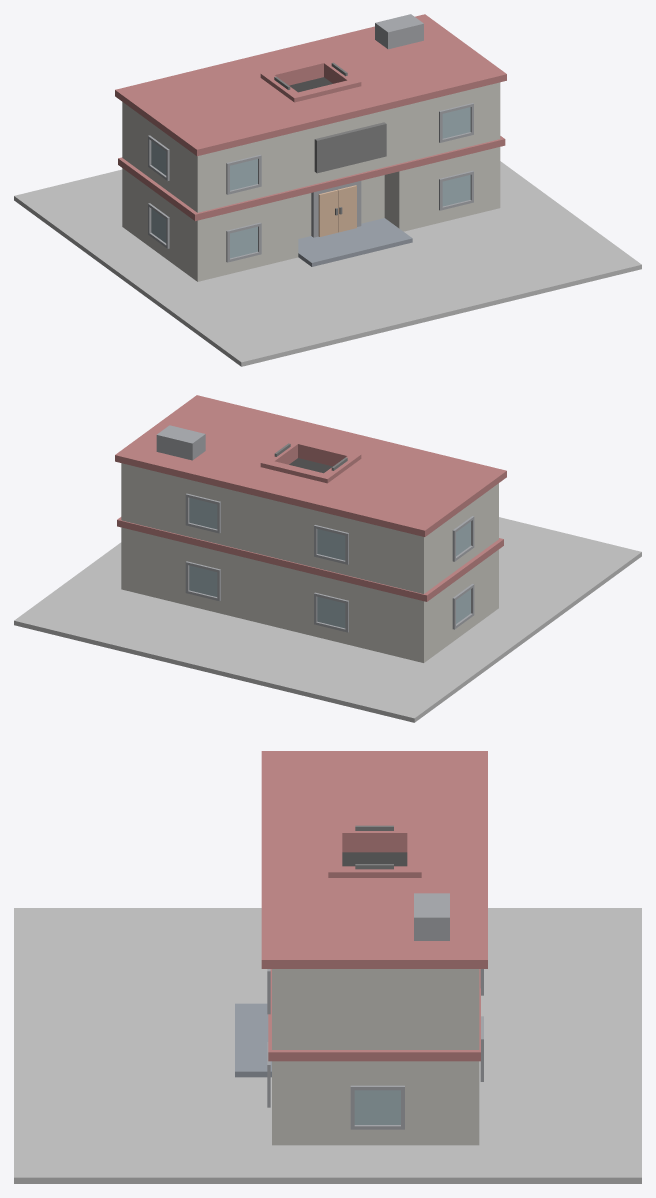
Rendered from mailDepot.fbx.
3 renders of one model, top to bottom at view 1: azimuth 30°, elevation 25°; view 2: azimuth 150°, elevation 25°; view 3: azimuth 270°, elevation 25°, orthographic. The views are drawn at different scales.
Parts seen in each view (by area): view 1: depotSlab, depotRoof, depotBase, depotUpper, depotEdging, house019, pPlane2 (×4), depotSign, depotBox, depotDoor_01, depotDoor_02, depotDoor_back (+1 smaller); view 2: depotSlab, depotRoof, depotBase, depotUpper, depotEdging, pPlane2 (×4), door9 (×4), depotBox; view 3: depotSlab, depotRoof, depotUpper, depotBase, depotEdging, house019, depotBox, pPlane2, door9, depotHole.
Part boxes in pixels (x1,y1,x2,y2): depotSlab: [14, 161, 641, 366]; depotRoof: [115, 14, 506, 156]; depotBase: [122, 147, 500, 281]; depotUpper: [122, 82, 500, 212]; depotEdging: [118, 136, 505, 221]; house019: [298, 218, 412, 266]; pPlane2 (×4): [230, 107, 470, 258]; depotSign: [314, 122, 386, 173]; depotBox: [375, 14, 423, 49]; depotDoor_01: [318, 190, 337, 236]; depotDoor_02: [337, 185, 356, 232]; depotDoor_back: [311, 181, 361, 237]; depotSlab: [14, 517, 641, 722]; depotRoof: [115, 395, 506, 536]; depotBase: [121, 527, 498, 662]; depotUpper: [121, 463, 498, 593]; depotEdging: [117, 517, 503, 601]; pPlane2 (×4): [189, 497, 345, 628]; door9 (×4): [185, 493, 348, 632]; depotBox: [156, 425, 205, 460]; depotSlab: [14, 908, 641, 1183]; depotRoof: [261, 751, 487, 968]; depotUpper: [272, 969, 479, 1049]; depotBase: [272, 1061, 479, 1145]; depotEdging: [268, 969, 480, 1061]; house019: [235, 1003, 271, 1077]; depotBox: [414, 893, 449, 940]; pPlane2: [354, 1090, 400, 1124]; door9: [350, 1085, 404, 1129]; depotHole: [342, 852, 407, 866].
Bounding box in the file's own units: 13.58 × 5.09 × 13.35.
